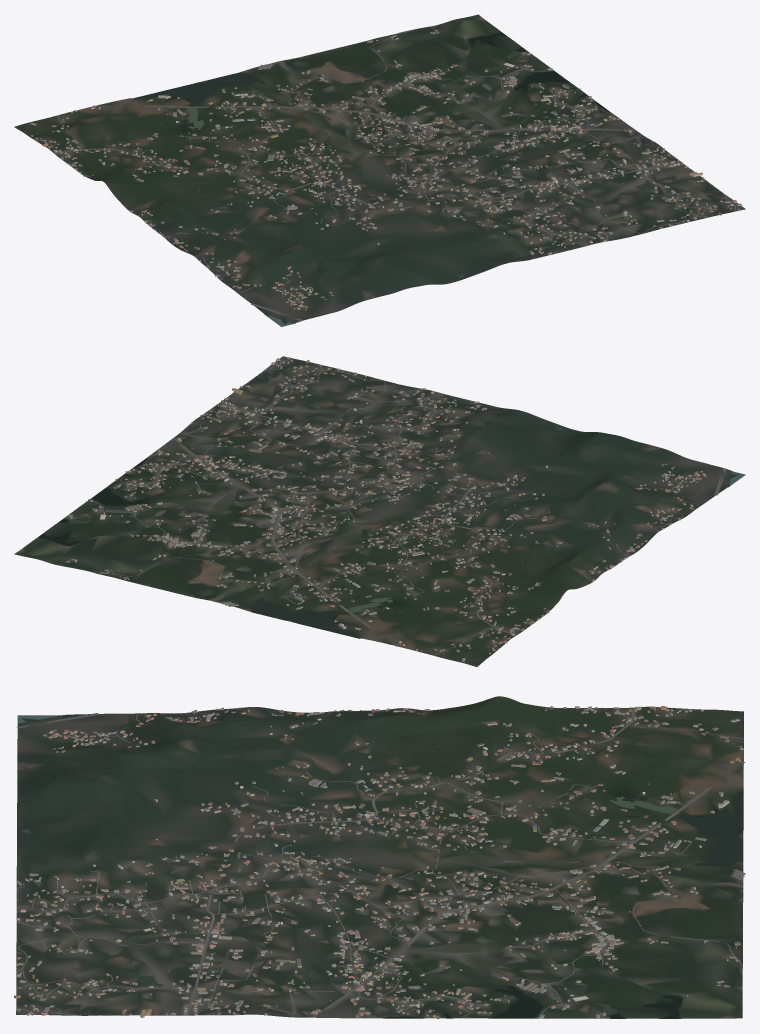
The picture shows the model from 3 angles, top to bottom: view 1: azimuth 30°, elevation 25°; view 2: azimuth 150°, elevation 25°; view 3: azimuth 270°, elevation 25°; orthographic projection. The views are drawn at different scales.
Parts seen in each view (by area): view 1: ground, buildings, roads, water; view 2: ground, buildings, roads, water; view 3: ground, buildings, roads, water.
Part boxes in pixels (box(x1,y1,x2,y2)): ground: box(14, 14, 745, 326); buildings: box(30, 29, 742, 310); roads: box(37, 33, 735, 321); water: box(134, 32, 653, 326); ground: box(14, 356, 745, 666); buildings: box(66, 357, 706, 661); roads: box(65, 358, 726, 655); water: box(38, 401, 745, 637); ground: box(16, 696, 743, 1018); buildings: box(14, 706, 745, 1019); roads: box(16, 707, 744, 1018); water: box(18, 715, 743, 1018).
Size of the model in its own units: 2829 by 101 by 2825.
